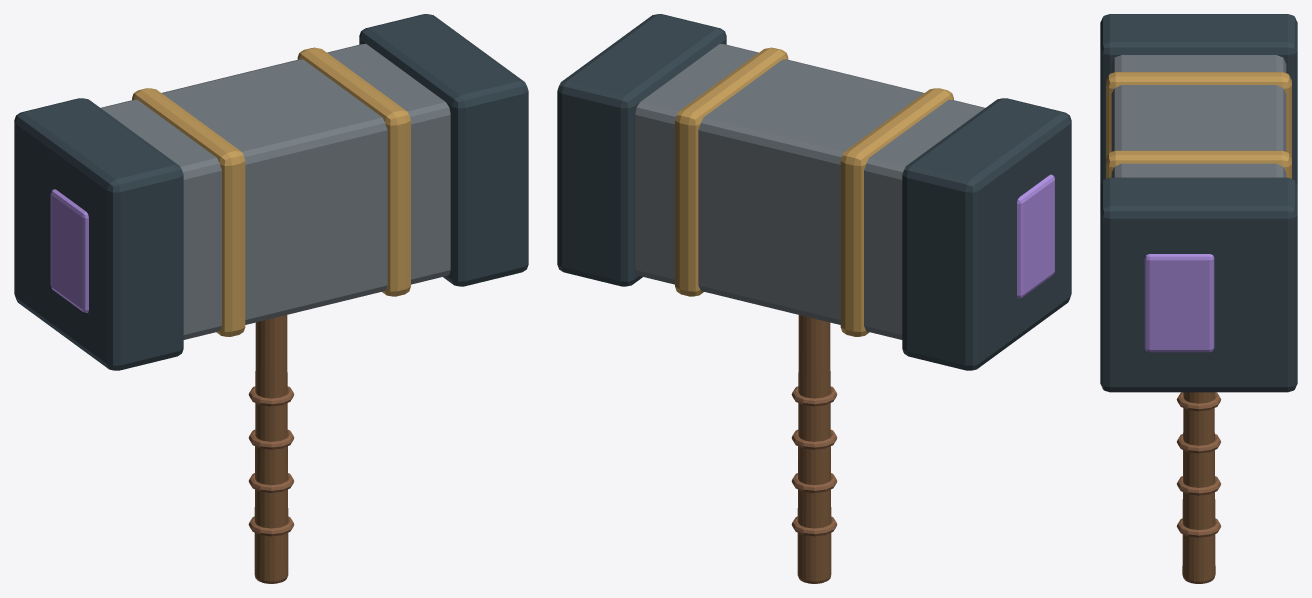
The model's file is weapon_greatmaul.glb.
The picture shows the model from 3 angles, left to right: view 1: azimuth 30°, elevation 25°; view 2: azimuth 150°, elevation 25°; view 3: azimuth 270°, elevation 25°; orthographic projection. The views are drawn at different scales.
Visible parts, largest first — view 1: ForgedEndcap, MassiveHammer, GoldenStrap, WrappedHaft.002, GlowingRune, GripBand.002; view 2: ForgedEndcap, MassiveHammer, GoldenStrap, WrappedHaft.002, GlowingRune, GripBand.002; view 3: ForgedEndcap, MassiveHammer, GlowingRune, GoldenStrap, WrappedHaft.002, GripBand.002.
Part boxes in pixels (x1,y1,x2,y2): ForgedEndcap: (14,14,528,370); MassiveHammer: (101,43,450,339); GoldenStrap: (132,47,410,336); WrappedHaft.002: (254,315,288,583); GlowingRune: (50,189,88,312); GripBand.002: (248,386,294,536); ForgedEndcap: (557,14,1071,370); MassiveHammer: (635,43,984,339); GoldenStrap: (675,47,953,336); WrappedHaft.002: (797,315,831,583); GlowingRune: (1017,174,1054,298); GripBand.002: (791,386,837,536); ForgedEndcap: (1100,14,1297,392); MassiveHammer: (1111,55,1286,177); GlowingRune: (1144,254,1214,352); GoldenStrap: (1106,72,1291,178); WrappedHaft.002: (1182,392,1215,583); GripBand.002: (1176,392,1221,537).
Bounding box in the file's own units: 1.25 × 1.33 × 0.51.
